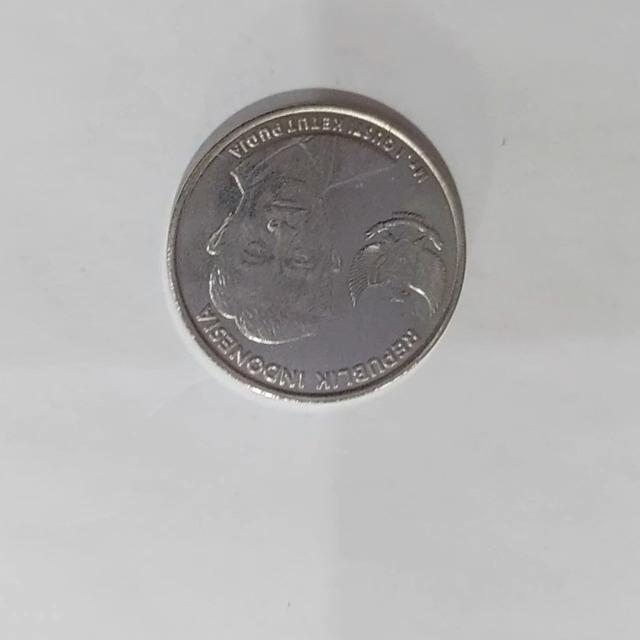Rp100: (163, 87, 468, 405)
